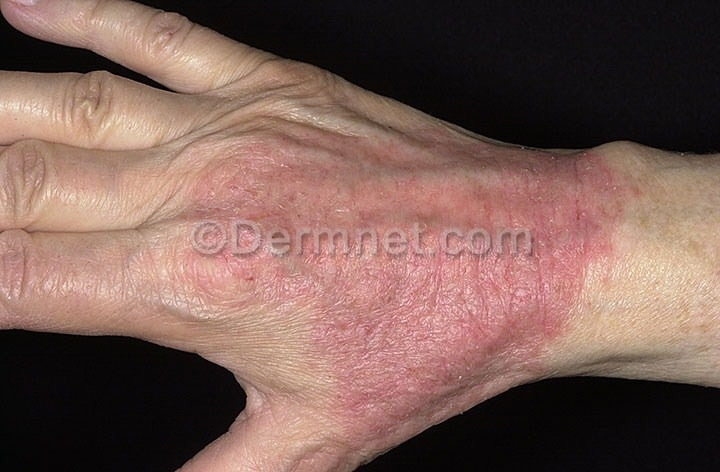Eczema: (201, 139, 632, 360), (301, 362, 512, 448), (1, 253, 162, 310)
